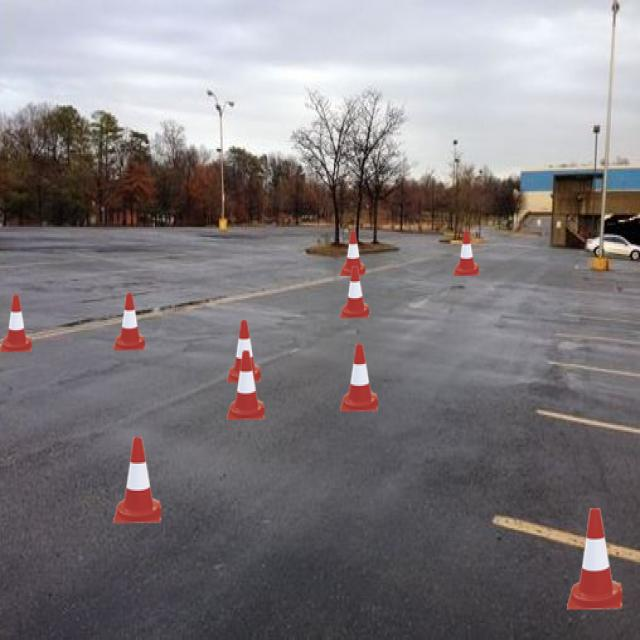orange_cone: (567, 508, 622, 609), (114, 437, 162, 523), (227, 350, 264, 420), (340, 344, 378, 411), (227, 320, 261, 383), (113, 293, 145, 350), (0, 294, 31, 352), (340, 266, 369, 318), (340, 230, 366, 276), (454, 230, 478, 276)
